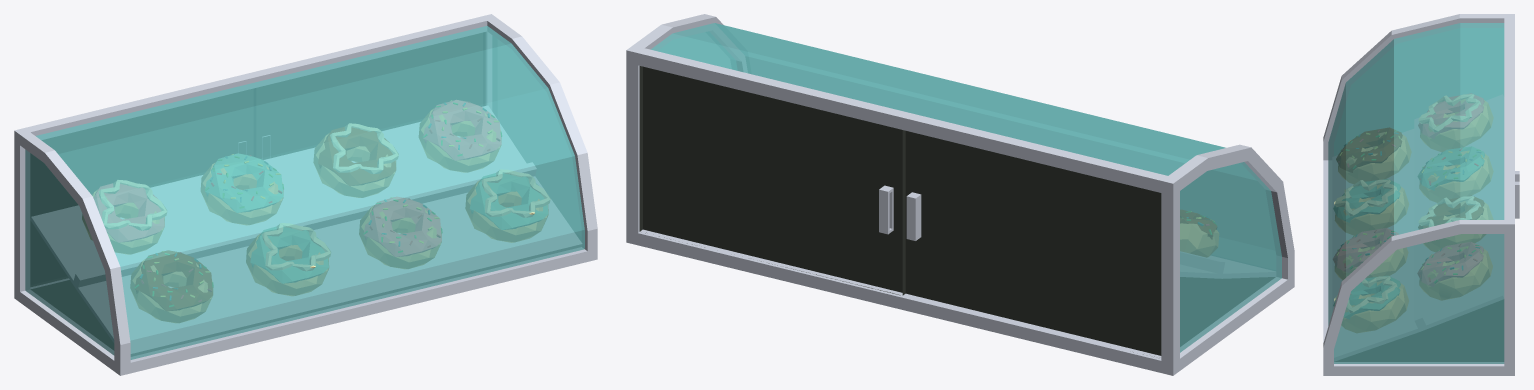
Rendered from Donut_Counter.glb.
The picture shows the model from 3 angles, left to right: view 1: azimuth 30°, elevation 25°; view 2: azimuth 150°, elevation 25°; view 3: azimuth 270°, elevation 25°; orthographic projection. The views are drawn at different scales.
Parts seen in each view (by area): view 1: DonutCounter; view 2: DonutCounter; view 3: DonutCounter.
Boxes of the visible parts, <box> form: DonutCounter: <box>14,14,597,375</box>; DonutCounter: <box>626,14,1294,375</box>; DonutCounter: <box>1323,14,1519,375</box>.
Size of what is drawn, in the model's own units: 2.17 by 0.7298 by 0.8567.
2 materials, 2 textured.
